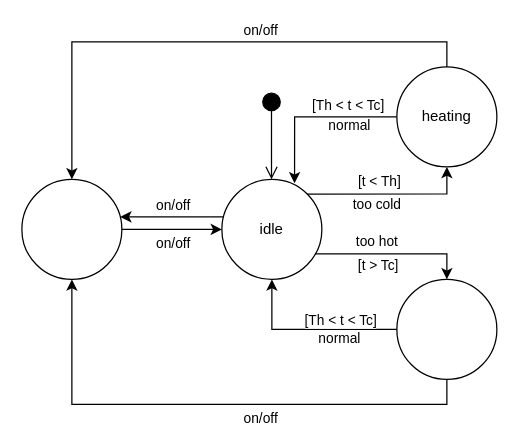
Image size: 519x446. Some labels were removed from this diagram. The centre of each missing label's shape, as x and y in pixels:
"cooling" goes at [446,328].
"off" goes at [71,228].
